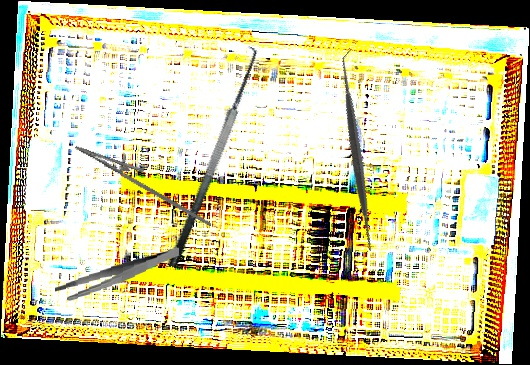Dressing Forceps: (52, 246, 183, 303)
Needle Holder: (67, 134, 224, 227)
Spatula Surgical: (251, 48, 463, 260), (148, 42, 269, 269)
